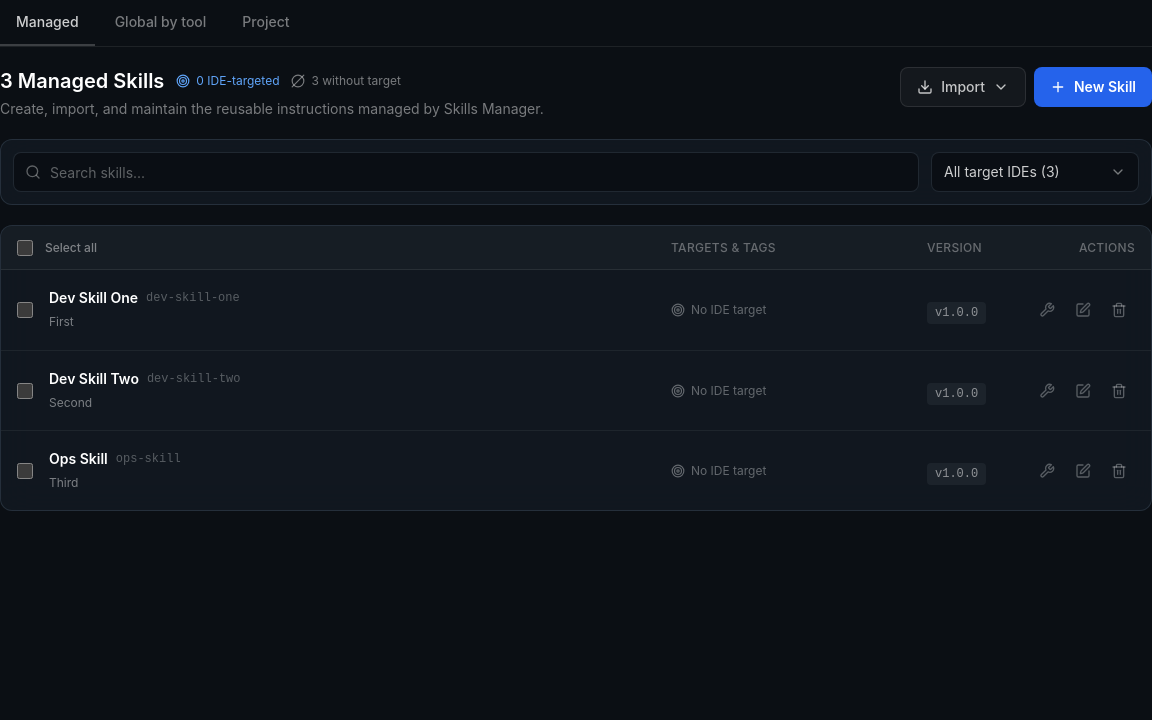
it: SkillsPage › selects filtered skills and removes selected items with partial failure feedback
Expected: the heading "Dev Skill One" is shown, 49,288 -> 138,308
Type "dev" into the search field with placeholder "Search skills..." at (466, 172), box 13,152 -> 919,192
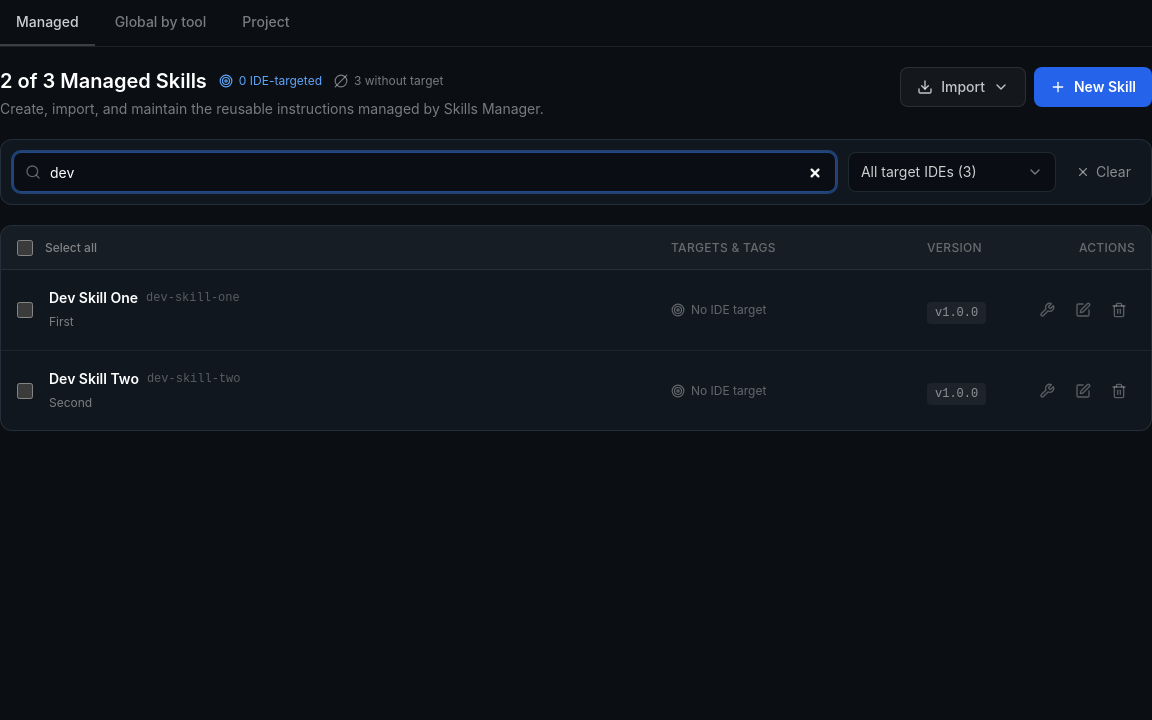
Click the checkbox labelled "Select all" at (25, 248), box 17,240 -> 33,256
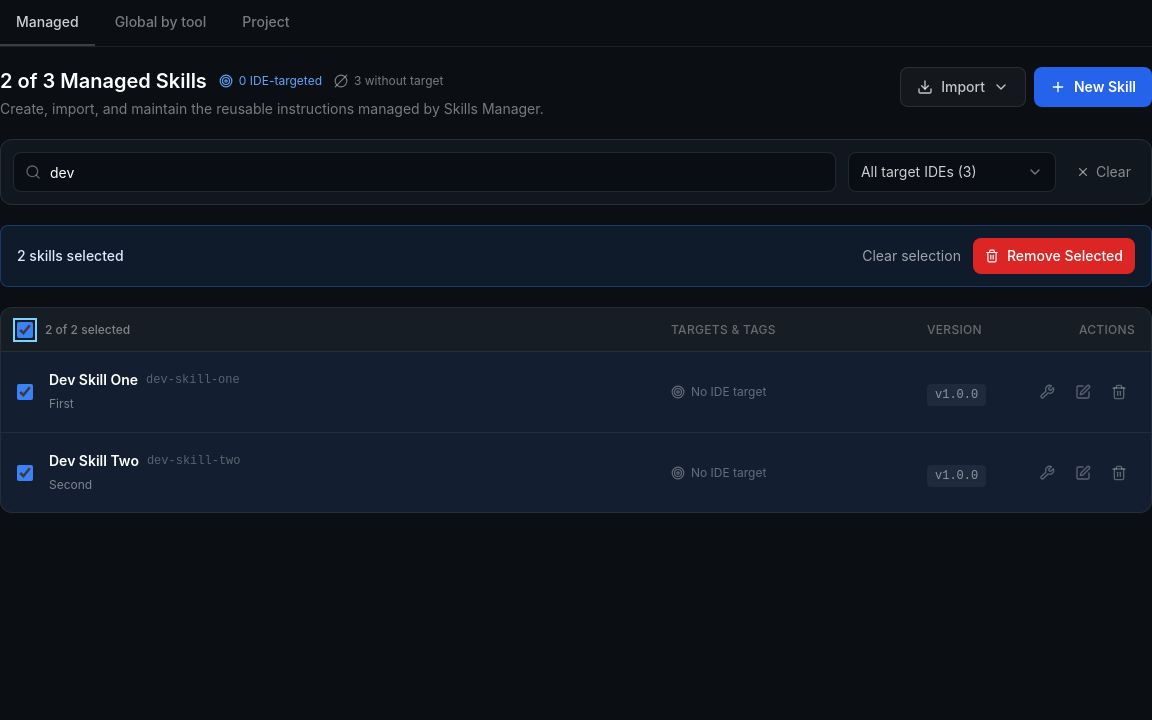
Click the button "Remove Selected" at (1054, 256), box 973,238 -> 1135,274
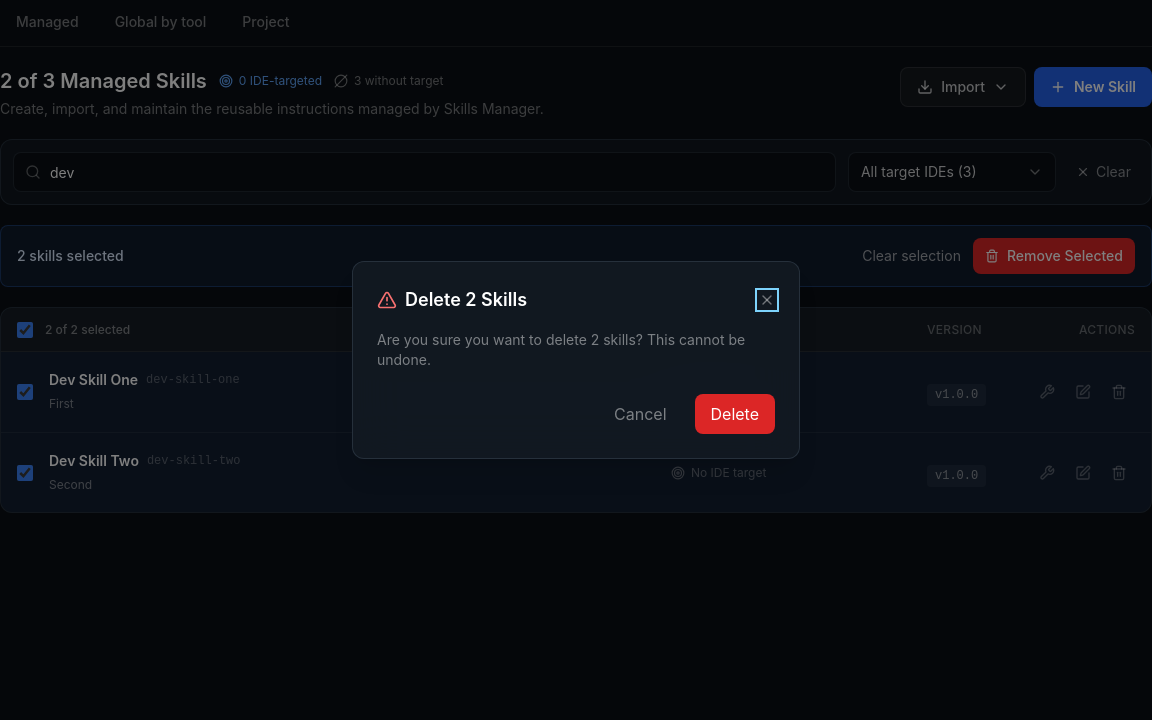
Click the button "Delete" at (735, 414), box 694,394 -> 775,434
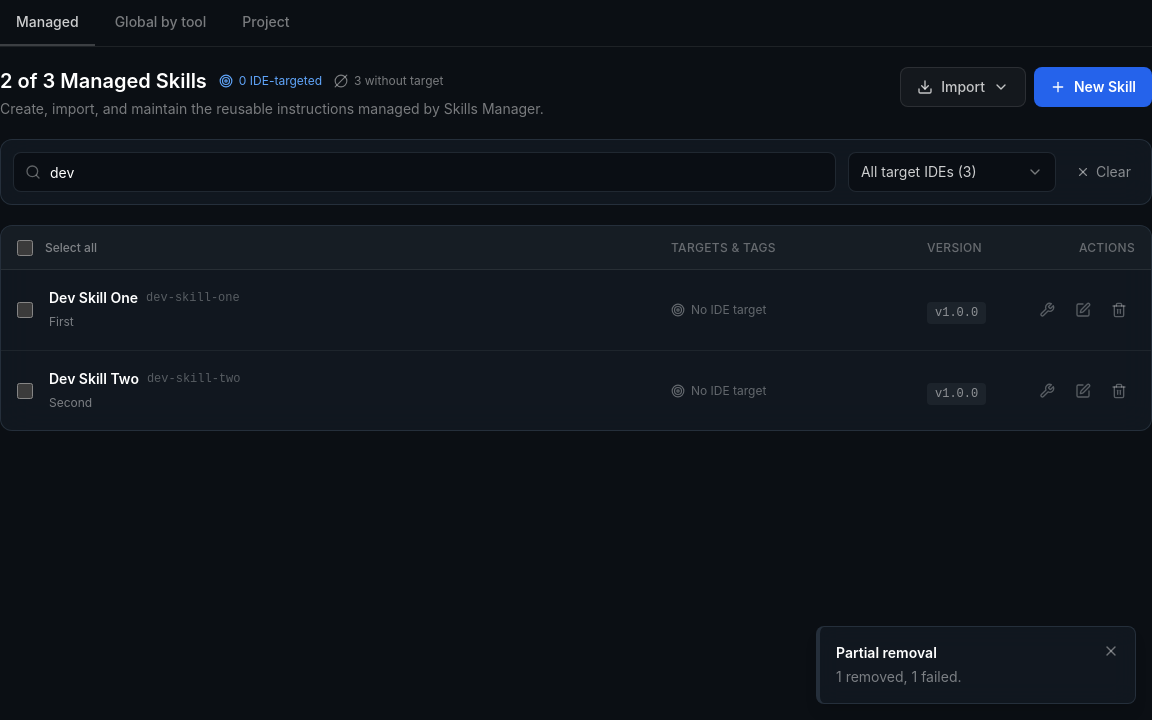
Now the text "Partial removal" is shown, box 836,644 -> 937,661
